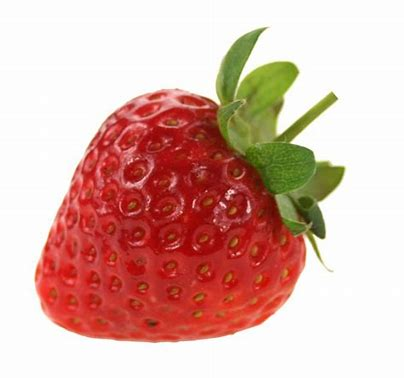strawberry: (34, 86, 309, 348)
